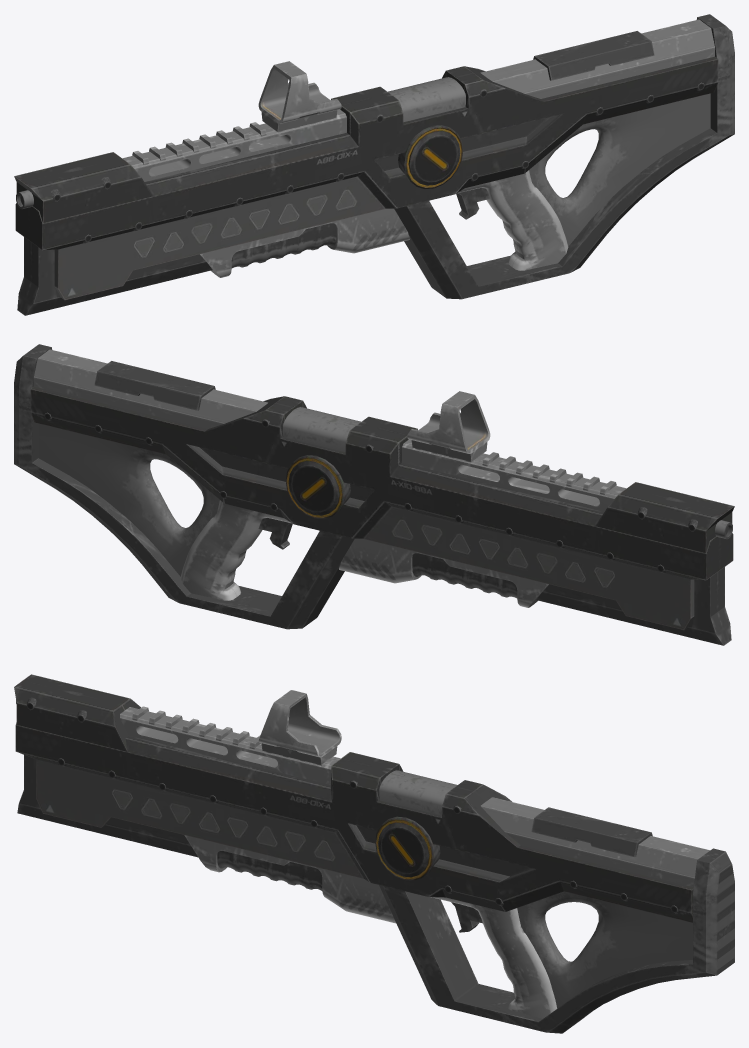
File: Gun_Rifle.glb
3 renders of one model, top to bottom at view 1: azimuth 30°, elevation 25°; view 2: azimuth 150°, elevation 25°; view 3: azimuth 330°, elevation 25°, orthographic.
Parts seen in each view (by area): view 1: Gun_Rifle; view 2: Gun_Rifle; view 3: Gun_Rifle.
Boxes of the visible parts, x1,y1,x2,y2 form: Gun_Rifle: [14, 14, 734, 315]; Gun_Rifle: [14, 344, 734, 645]; Gun_Rifle: [14, 674, 734, 1033].
Size of the model in its own units: 1.06 by 0.3738 by 0.087.
Materials: 1 (1 with a texture image).
